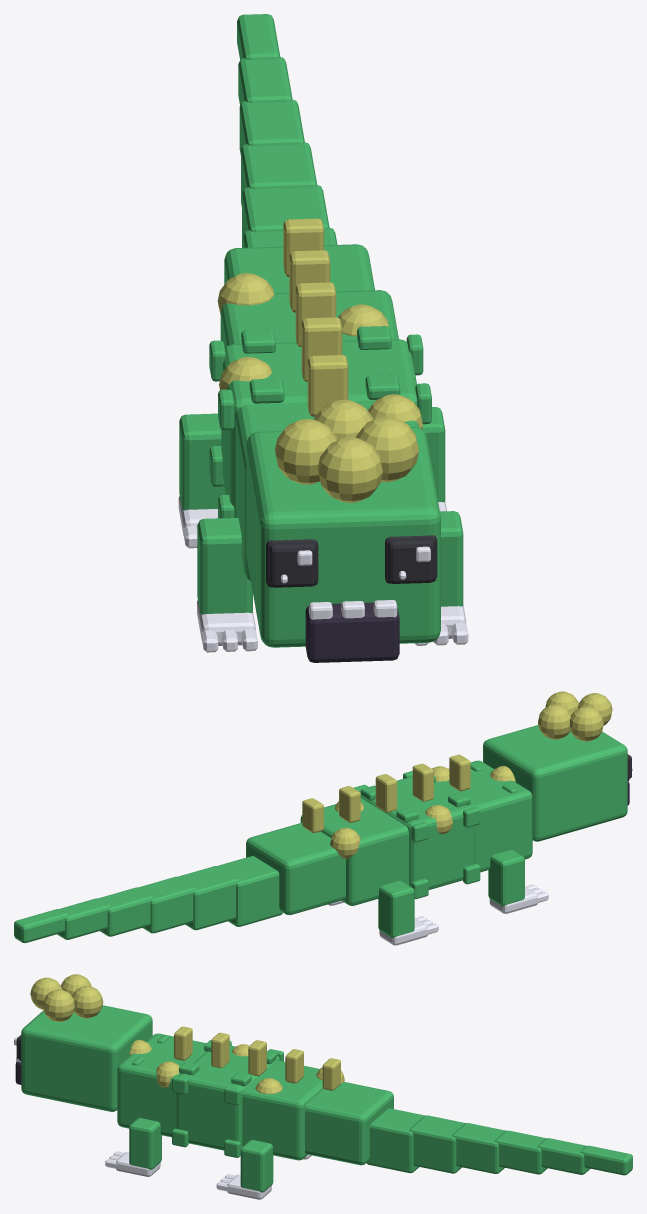
The model's file is LuckyLizard.obj.
3 renders of one model, top to bottom at view 1: azimuth 30°, elevation 25°; view 2: azimuth 150°, elevation 25°; view 3: azimuth 270°, elevation 25°, orthographic. The views are drawn at different scales.
Visible parts, largest first — view 1: LuckyLizard; view 2: LuckyLizard; view 3: LuckyLizard.
Part boxes in pixels (x1=…): LuckyLizard: x1=178, y1=14, x2=468, y2=662; LuckyLizard: x1=14, y1=691, x2=632, y2=945; LuckyLizard: x1=14, y1=974, x2=632, y2=1199.
Bounding box in the file's own units: 1.38 × 0.6777 × 2.58.
